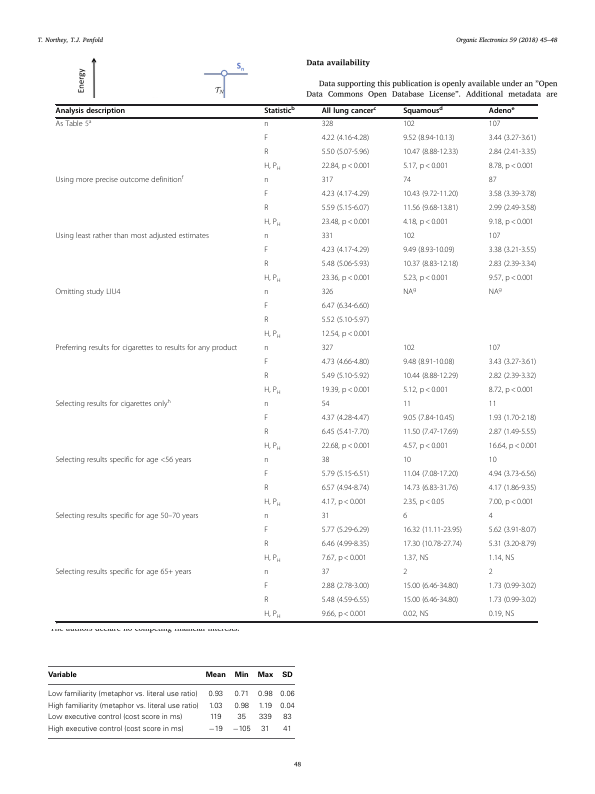borderless: (54, 103, 537, 621), (47, 665, 295, 739)
cell: (55, 344, 238, 354), (55, 232, 210, 242), (55, 174, 184, 186), (55, 512, 199, 522), (55, 398, 172, 410), (46, 702, 199, 711), (55, 456, 192, 466), (55, 568, 192, 578), (46, 690, 198, 699), (46, 725, 184, 734), (46, 713, 183, 722), (55, 288, 121, 298), (55, 107, 126, 116), (321, 105, 377, 116), (402, 526, 463, 536), (402, 540, 463, 550), (402, 148, 459, 158), (402, 190, 459, 200), (402, 204, 459, 214), (402, 260, 459, 270), (402, 372, 459, 382), (402, 428, 459, 438), (402, 470, 459, 480), (402, 484, 459, 494), (402, 582, 459, 592), (402, 596, 459, 606), (402, 134, 455, 144), (402, 246, 455, 256), (402, 358, 455, 368), (402, 414, 455, 424), (321, 162, 371, 172), (321, 218, 371, 228), (321, 274, 371, 284), (321, 330, 371, 340), (321, 386, 371, 396), (321, 442, 371, 452), (488, 442, 538, 452), (321, 134, 370, 144), (488, 134, 537, 144), (321, 148, 370, 158), (488, 148, 537, 158), (321, 190, 370, 200), (488, 190, 537, 200), (321, 204, 370, 214), (488, 204, 537, 214), (321, 246, 370, 256), (488, 246, 537, 256), (321, 260, 370, 270), (488, 260, 537, 270), (321, 302, 370, 312), (321, 316, 370, 326), (321, 358, 370, 368), (488, 358, 537, 368), (321, 372, 370, 382), (488, 372, 537, 382), (321, 414, 370, 424), (488, 414, 537, 424), (321, 428, 370, 438), (488, 428, 537, 438), (321, 470, 370, 480), (488, 470, 537, 480), (321, 484, 370, 494), (488, 484, 537, 494), (321, 526, 370, 536), (488, 526, 537, 536), (321, 540, 370, 550), (488, 540, 537, 550), (321, 582, 370, 592), (488, 582, 537, 592), (321, 596, 370, 606), (488, 596, 537, 606), (402, 162, 449, 172), (488, 162, 535, 172), (402, 218, 449, 228), (488, 218, 535, 228), (402, 274, 449, 284), (488, 274, 535, 284), (402, 386, 449, 396), (488, 386, 535, 396), (402, 442, 449, 452), (321, 498, 368, 508), (488, 498, 535, 508), (321, 554, 368, 564), (321, 610, 368, 620), (402, 105, 444, 116), (55, 118, 92, 130), (402, 498, 445, 508), (263, 105, 296, 116), (488, 105, 515, 116), (402, 554, 429, 564), (488, 554, 515, 564), (402, 610, 429, 620), (488, 610, 515, 620), (46, 671, 77, 679), (263, 162, 282, 172), (263, 218, 282, 228), (263, 274, 282, 284), (263, 330, 282, 340), (263, 386, 282, 396), (263, 442, 282, 452), (263, 498, 282, 508), (263, 554, 282, 564), (263, 610, 282, 620), (402, 286, 417, 298), (488, 286, 503, 298), (231, 725, 251, 734), (204, 671, 226, 679), (256, 690, 273, 699), (207, 690, 223, 699), (233, 690, 249, 699), (279, 690, 295, 699), (207, 702, 223, 711), (233, 702, 249, 711), (279, 702, 295, 711), (207, 725, 223, 734), (402, 120, 416, 130), (402, 232, 416, 242), (402, 344, 416, 354), (256, 671, 273, 679), (257, 702, 272, 711), (257, 713, 272, 722), (321, 120, 334, 130), (488, 120, 501, 130), (321, 176, 334, 186), (321, 232, 334, 242), (488, 232, 501, 242), (321, 288, 334, 298), (321, 344, 334, 354), (488, 344, 501, 354), (233, 671, 249, 679), (208, 713, 222, 722), (402, 176, 412, 186), (402, 400, 412, 410), (402, 456, 412, 466), (281, 671, 293, 679), (488, 176, 497, 186), (321, 400, 330, 410), (488, 400, 497, 410), (321, 456, 330, 466), (488, 456, 497, 466), (321, 512, 330, 522), (321, 568, 330, 578), (236, 713, 246, 722), (282, 713, 292, 722), (260, 725, 270, 734), (282, 725, 292, 734), (263, 120, 269, 130), (263, 134, 269, 144), (263, 148, 269, 158), (263, 176, 269, 186), (263, 190, 269, 200), (263, 204, 269, 214), (263, 232, 269, 242), (263, 246, 269, 256), (263, 260, 269, 270), (263, 288, 269, 298), (263, 302, 269, 312), (263, 316, 269, 326), (263, 344, 269, 354), (263, 358, 269, 368), (263, 372, 269, 382), (263, 400, 269, 410), (263, 414, 269, 424), (263, 428, 269, 438), (263, 456, 269, 466), (263, 470, 269, 480), (263, 484, 269, 494), (263, 512, 269, 522), (402, 512, 408, 522), (488, 512, 494, 522), (263, 526, 269, 536), (263, 540, 269, 550), (263, 568, 269, 578), (402, 568, 408, 578), (488, 568, 494, 578), (263, 582, 269, 592), (263, 596, 269, 606)
